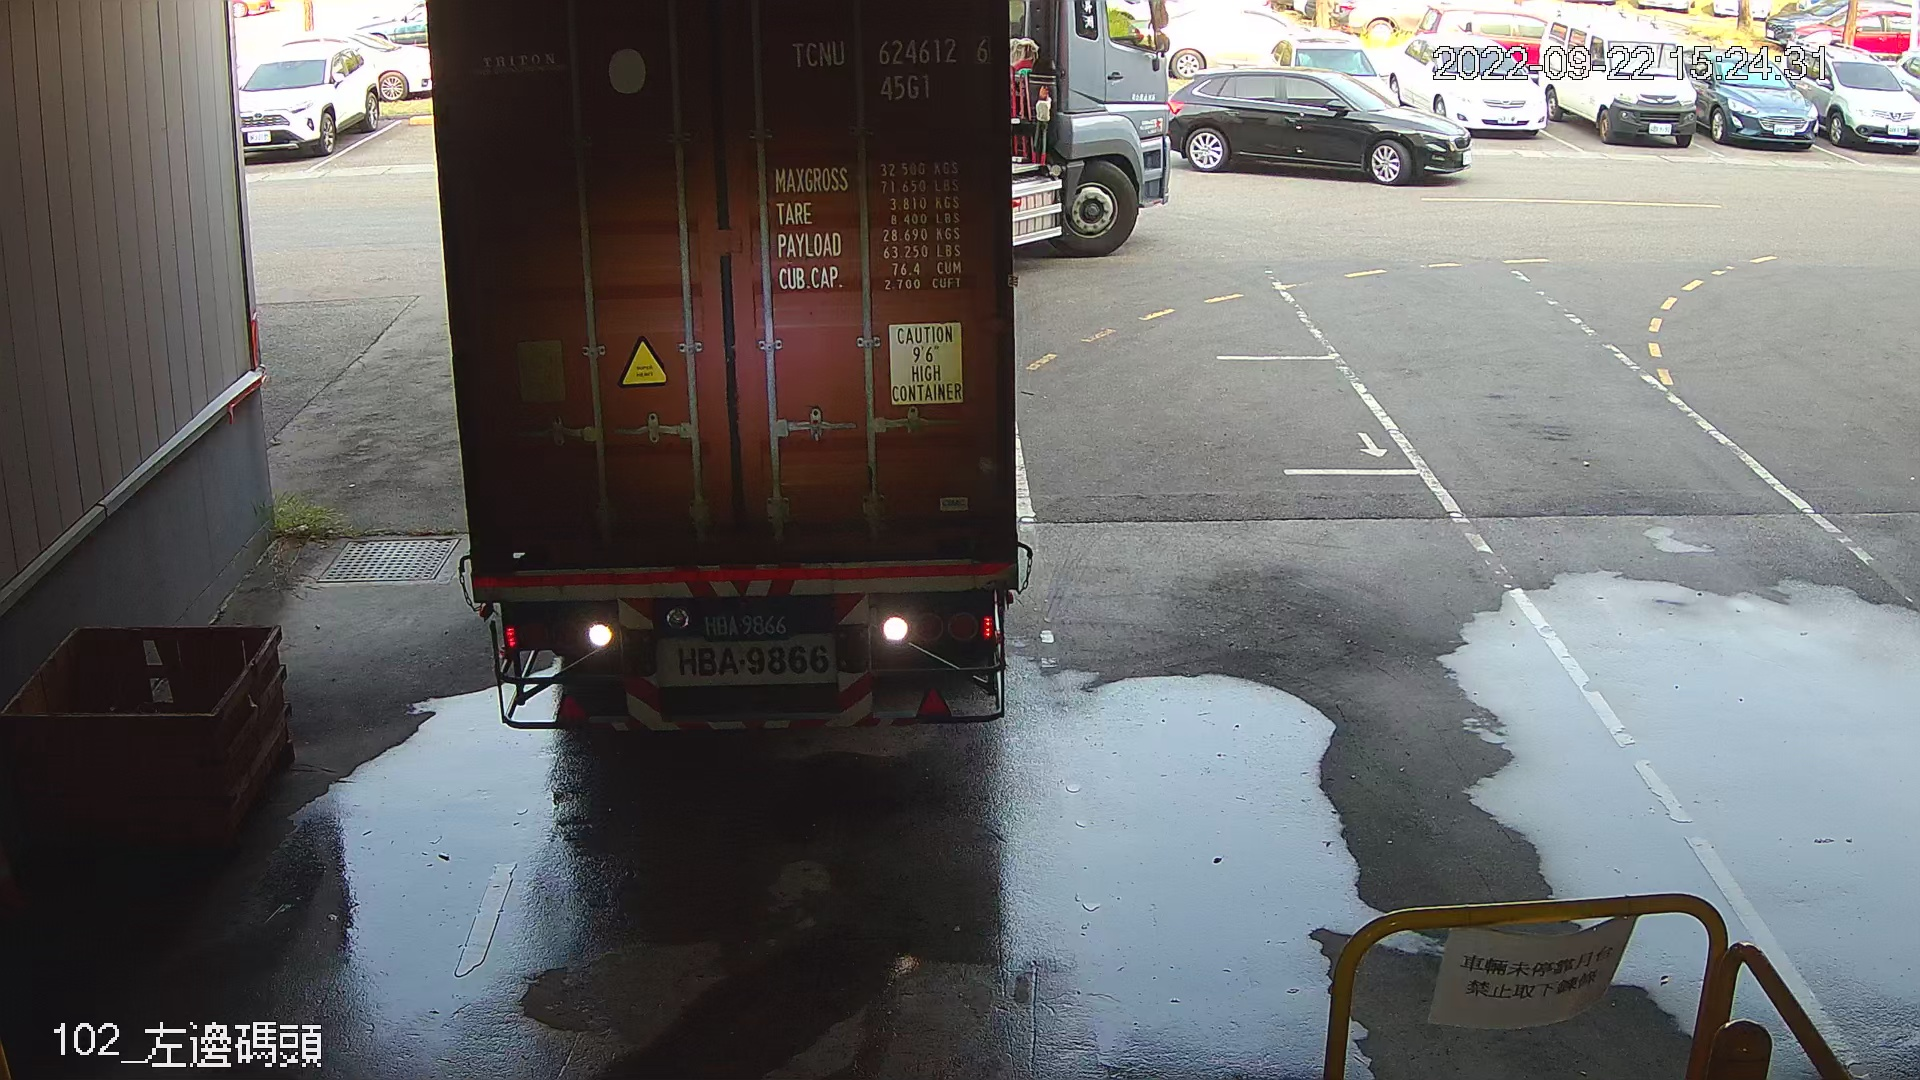container: (785, 30, 997, 109)
